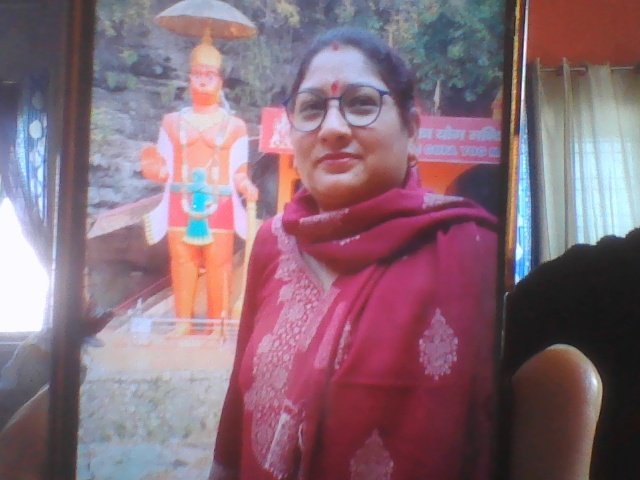fake: (279, 5, 423, 209)
